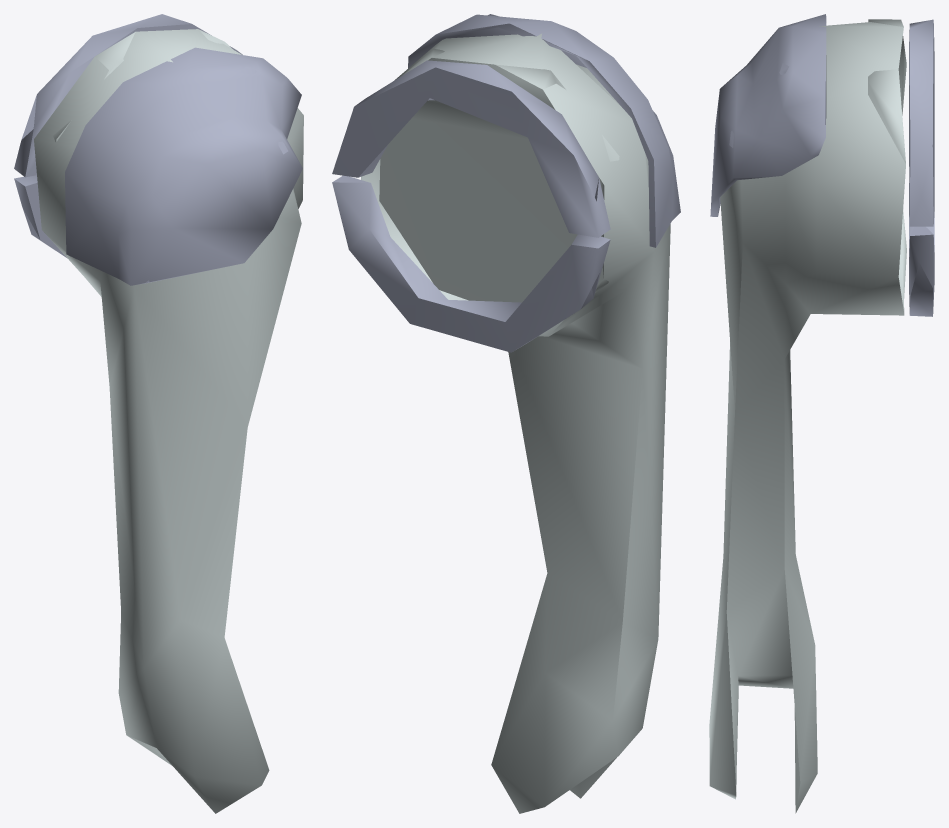
Rendered from thigh_mirror_dae.dae.
3 views of the same model, side by side, from view 1: azimuth 30°, elevation 25°; view 2: azimuth 150°, elevation 25°; view 3: azimuth 270°, elevation 25° (orthographic). The views are drawn at different scales.
Parts seen in each view (by area): view 1: thigh_mirror_dae; view 2: thigh_mirror_dae; view 3: thigh_mirror_dae.
Boxes of the visible parts, x1=… form: thigh_mirror_dae: x1=14, y1=14, x2=303, y2=813; thigh_mirror_dae: x1=332, y1=14, x2=680, y2=813; thigh_mirror_dae: x1=709, y1=14, x2=934, y2=813.
Bounding box in the file's own units: 0.0964 × 0.0729 × 0.2778.
